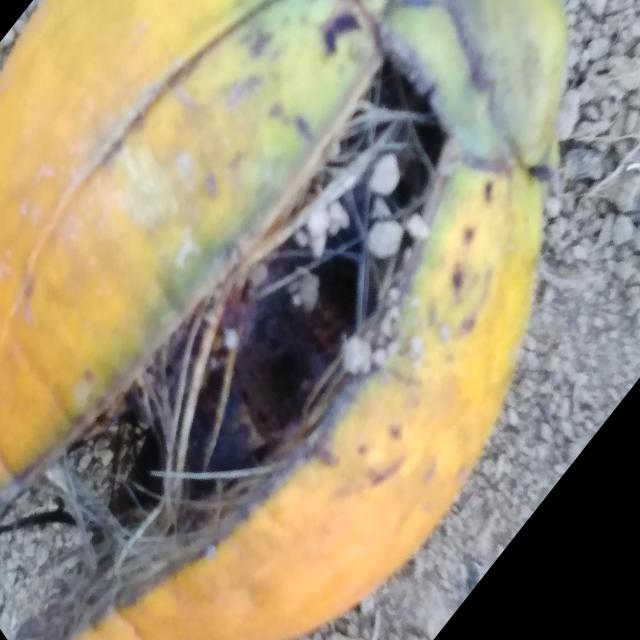damaged: (0, 0, 567, 640)
